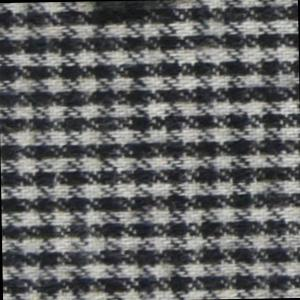Stain: (88, 1, 173, 31)
